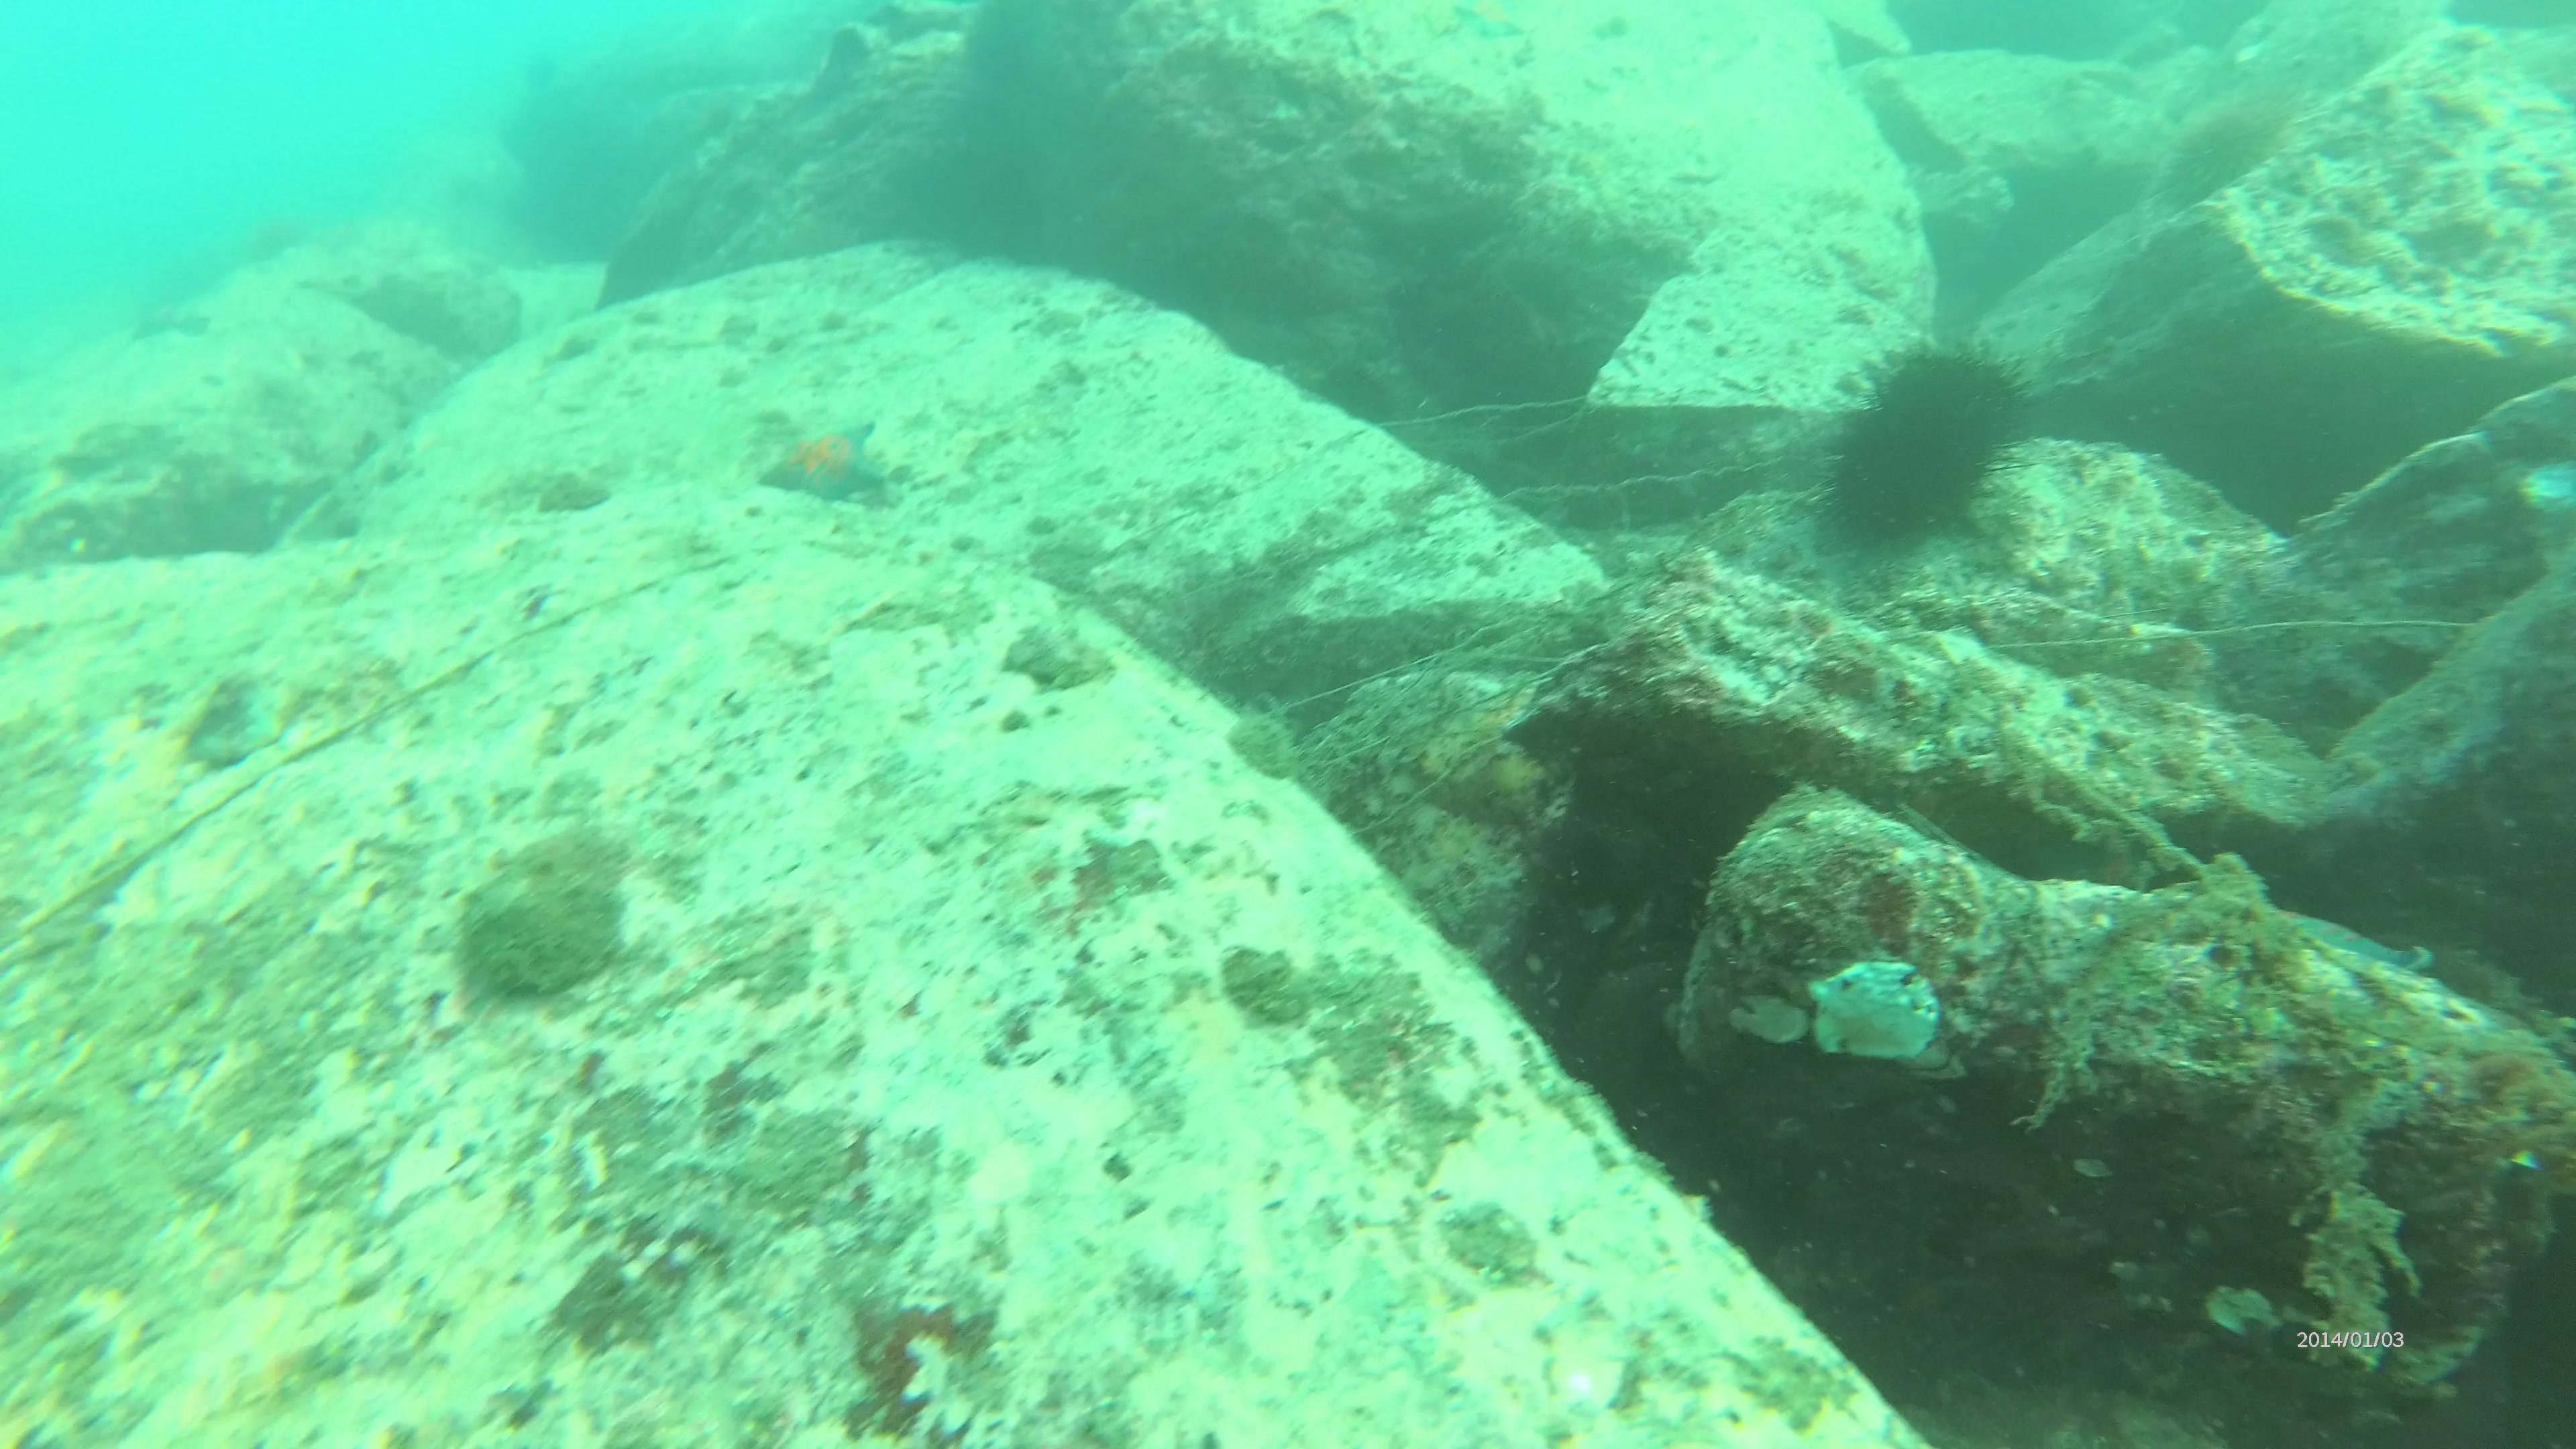echinus: (1821, 340, 2035, 545)
starfish: (761, 416, 890, 518)
